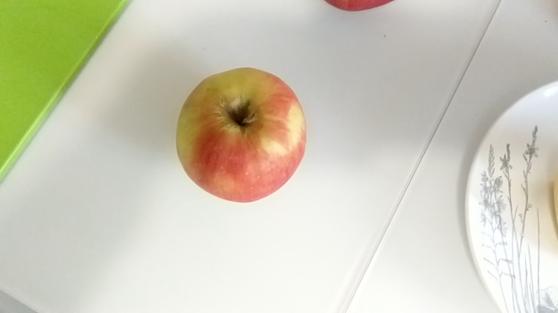apple: (177, 65, 305, 201)
